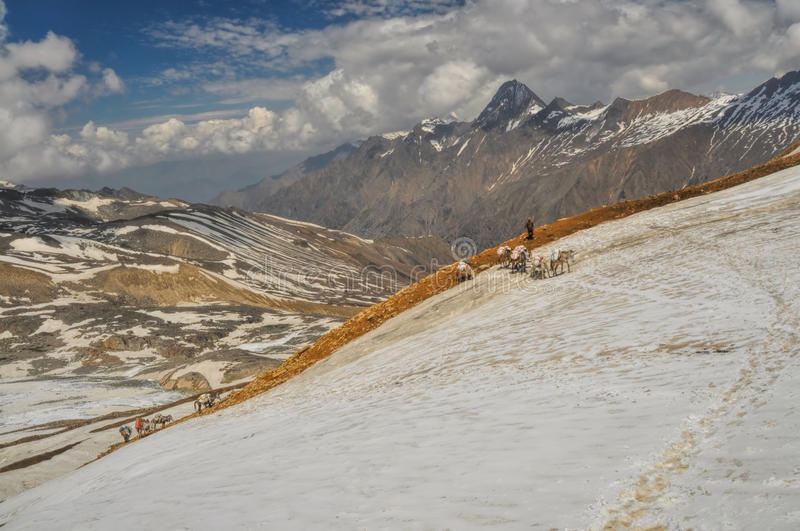equine: (445, 254, 479, 290), (483, 239, 521, 269), (512, 241, 530, 277), (536, 258, 559, 284)
human: (517, 211, 542, 241)
